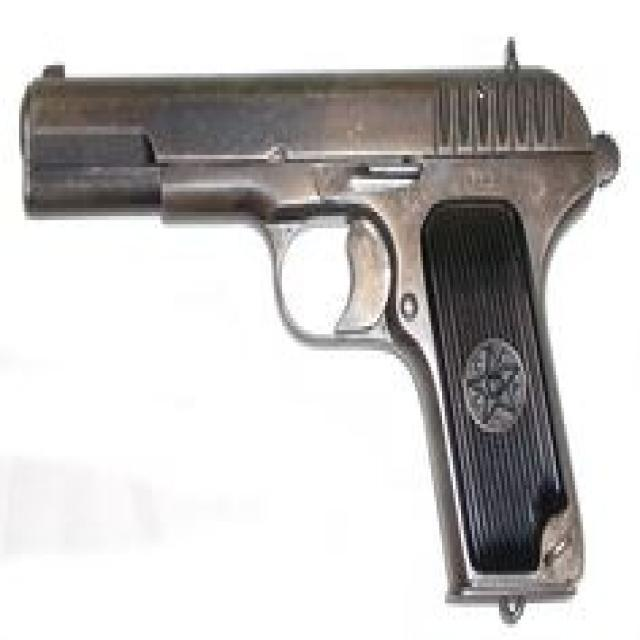semi automatic: (2, 30, 605, 617)
